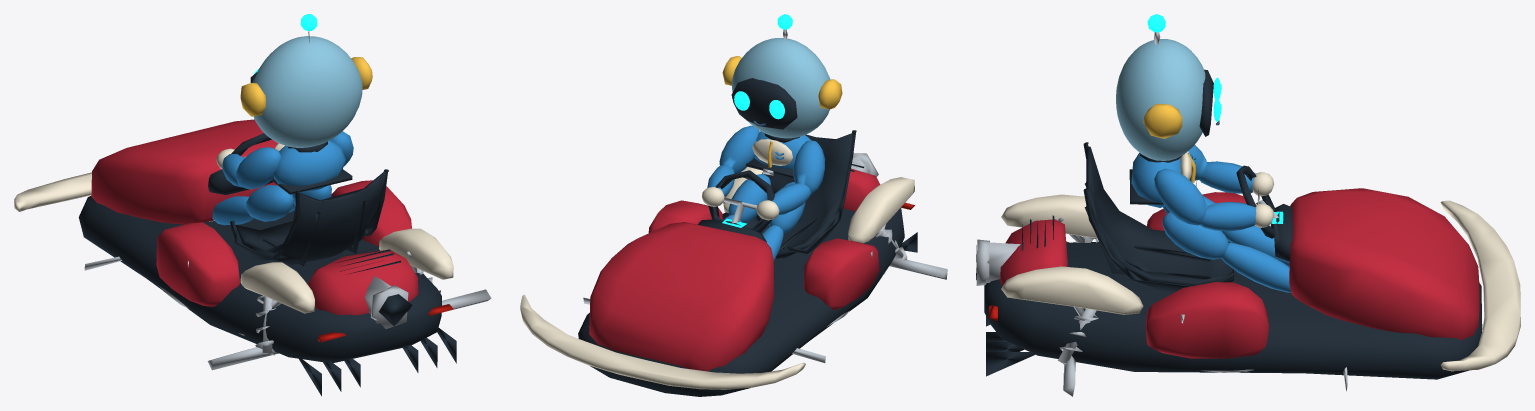
The model's file is chibi-bibo-low-v1.glb.
The picture shows the model from 3 angles, left to right: view 1: azimuth 30°, elevation 25°; view 2: azimuth 150°, elevation 25°; view 3: azimuth 270°, elevation 25°; orthographic projection. The views are drawn at different scales.
Parts seen in each view (by area): view 1: SeatRolledLip1, SculptedSideIntake1, Head, SweptFrontApron, Team double chevron.001, SuspensionCoil1, Upper sleeve, Central orange zipper; view 2: SculptedSideIntake1, SeatRolledLip1, SweptFrontApron, Head, Team double chevron.001, SuspensionCoil1, Upper sleeve, Upper sleeve.001, Central orange zipper, InstrumentScreen, Mitten; view 3: SeatRolledLip1, SculptedSideIntake1, SweptFrontApron, Head, Team double chevron.001, Upper sleeve.001, SuspensionCoil1, Upper sleeve, Central orange zipper, InstrumentScreen.
Boxes of the visible parts, x1,y1,x2,y2 form: SeatRolledLip1: (78, 72, 456, 396); SculptedSideIntake1: (91, 119, 418, 315); Head: (253, 36, 362, 147); SweptFrontApron: (14, 143, 453, 313); Team double chevron.001: (212, 140, 345, 225); SuspensionCoil1: (84, 31, 491, 370); Upper sleeve: (222, 147, 281, 189); Central orange zipper: (240, 57, 372, 116); SculptedSideIntake1: (589, 168, 880, 371); SeatRolledLip1: (578, 78, 917, 396); SweptFrontApron: (520, 139, 914, 389); Head: (731, 38, 830, 138); Team double chevron.001: (723, 131, 811, 261); SuspensionCoil1: (583, 29, 947, 362); Upper sleeve: (772, 140, 825, 214); Upper sleeve.001: (707, 125, 759, 197); Central orange zipper: (722, 56, 842, 167); InstrumentScreen: (722, 14, 792, 227); Mitten: (756, 200, 779, 220); SeatRolledLip1: (976, 69, 1482, 379); SculptedSideIntake1: (1000, 188, 1479, 358); SweptFrontApron: (1001, 151, 1520, 371); Head: (1116, 39, 1205, 160); Team double chevron.001: (1131, 153, 1291, 292); Upper sleeve.001: (1154, 168, 1256, 231); SuspensionCoil1: (976, 32, 1347, 396); Upper sleeve: (1188, 145, 1255, 193); Central orange zipper: (1143, 104, 1196, 182); InstrumentScreen: (1147, 14, 1283, 223).
Bounding box in the file's own units: 1.63 × 1.53 × 2.31.
